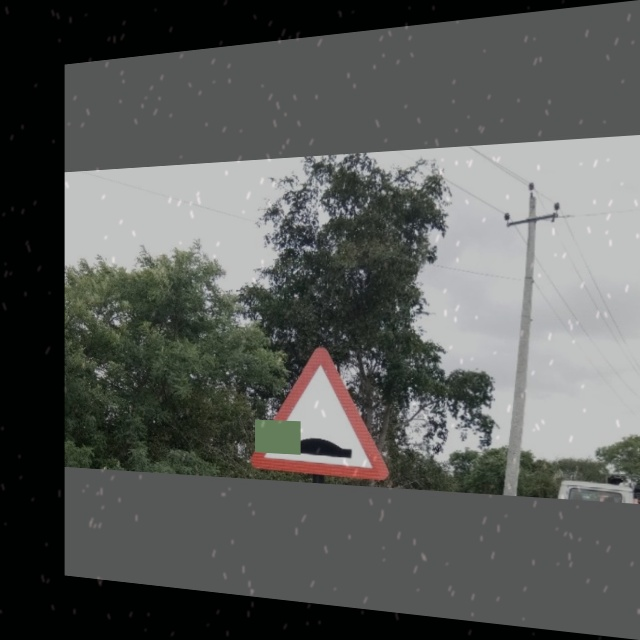Dangerous_Dip: (252, 344, 375, 469)
